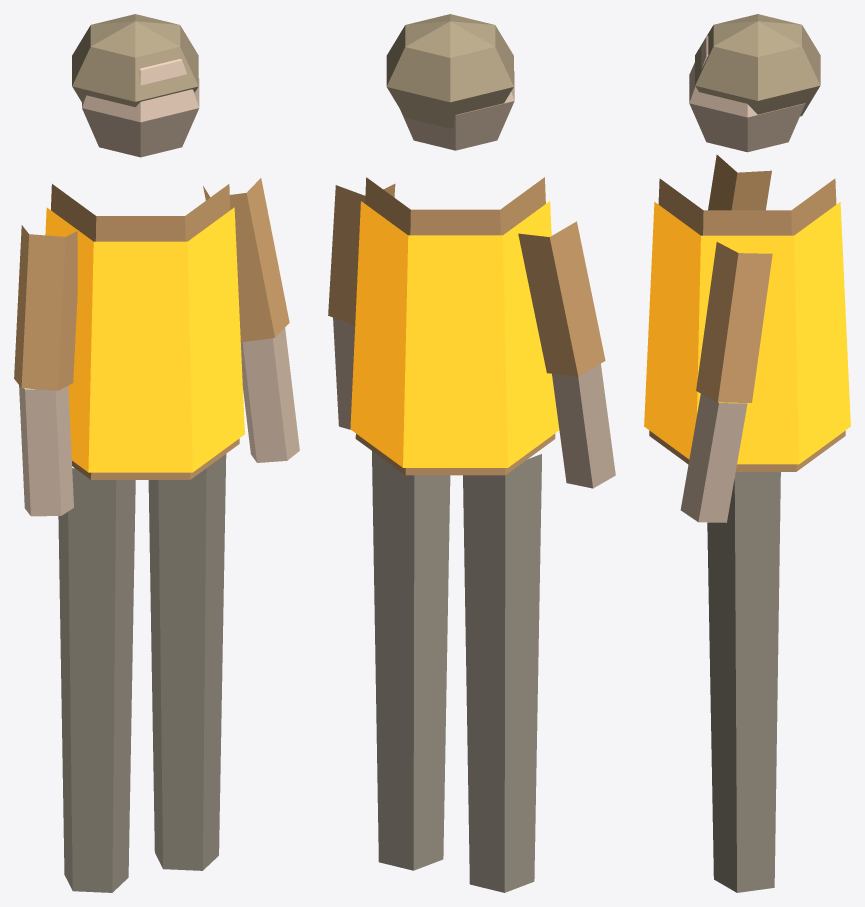
Rendered from person_marshal.glb.
3 renders of one model, left to right at view 1: azimuth 30°, elevation 25°; view 2: azimuth 150°, elevation 25°; view 3: azimuth 270°, elevation 25°, orthographic.
Visible parts, largest first — view 1: person_marshal; view 2: person_marshal; view 3: person_marshal.
Part boxes in pixels (x1=…): person_marshal: x1=14, y1=14, x2=299, y2=892; person_marshal: x1=328, y1=14, x2=615, y2=892; person_marshal: x1=644, y1=14, x2=850, y2=892.
Bounding box in the file's own units: 0.595 × 1.78 × 0.4.
